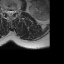CCS_stenosis: (9, 7, 11, 18)
LFS_normal: (14, 7, 17, 15)
LLS_normal: (11, 8, 14, 16)
RFS_normal: (3, 6, 6, 16)
RLS_normal: (6, 7, 9, 16)
